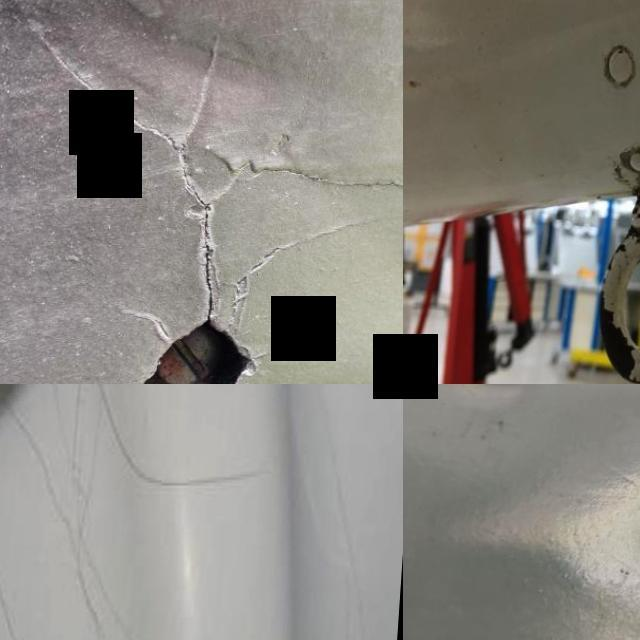Crack: (40, 49, 349, 384), (4, 394, 110, 640), (97, 384, 277, 492), (0, 551, 30, 640)
Dent: (419, 384, 554, 431)
